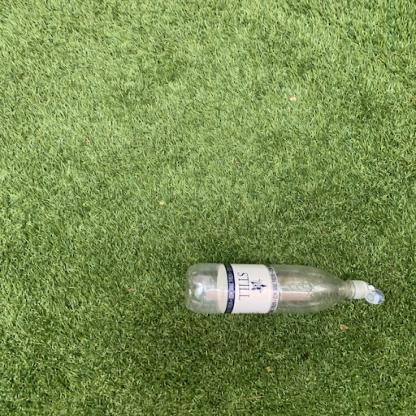trash: (182, 262, 384, 318)
